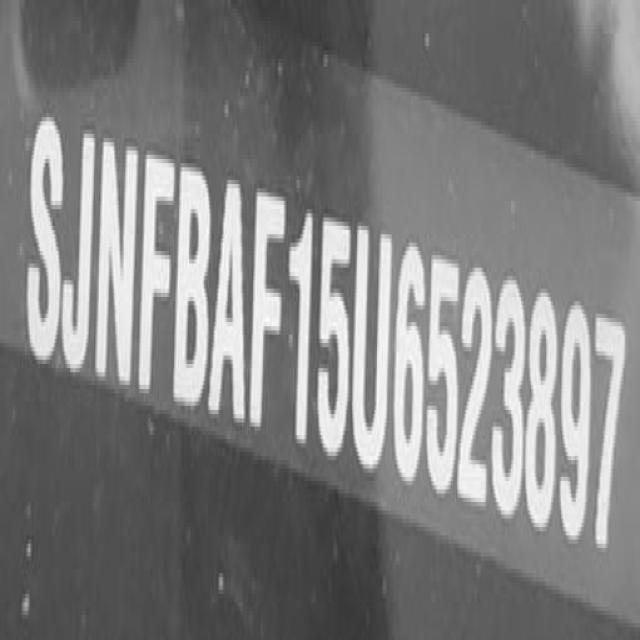1: (286, 195, 317, 460)
2: (454, 262, 492, 518)
3: (490, 274, 528, 524)
5: (314, 207, 353, 468), (424, 250, 460, 508)
6: (390, 239, 428, 493)
7: (592, 314, 630, 564)
8: (175, 160, 213, 418), (522, 288, 561, 532)
9: (557, 303, 594, 548)
A: (207, 178, 250, 433)
F: (248, 182, 288, 443), (140, 152, 176, 396)
J: (60, 115, 96, 378)
M: (94, 130, 142, 396)
S: (26, 101, 63, 373)
U: (352, 222, 394, 480)
